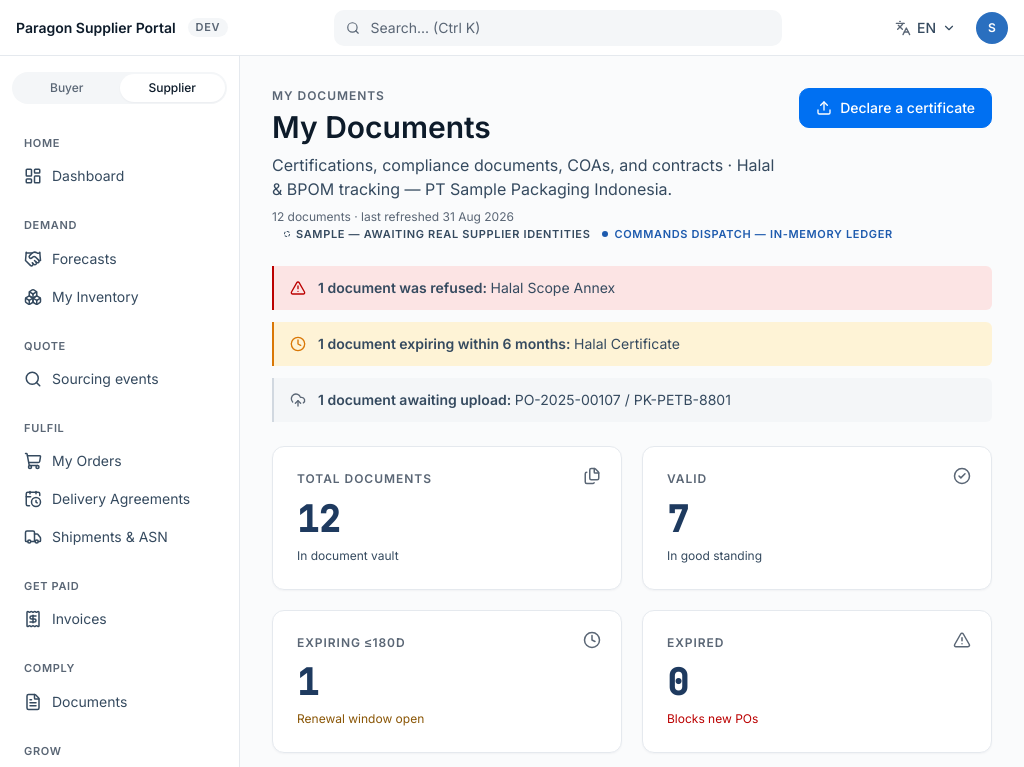
Test: §82 · the supplier declares — and the surface says what it is › a supplier lane without the verb sees WHOSE act it is, not an absent button
Click the button "Declare a certificate". click: (896, 108)
box: x1=799 y1=88 x2=992 y2=128
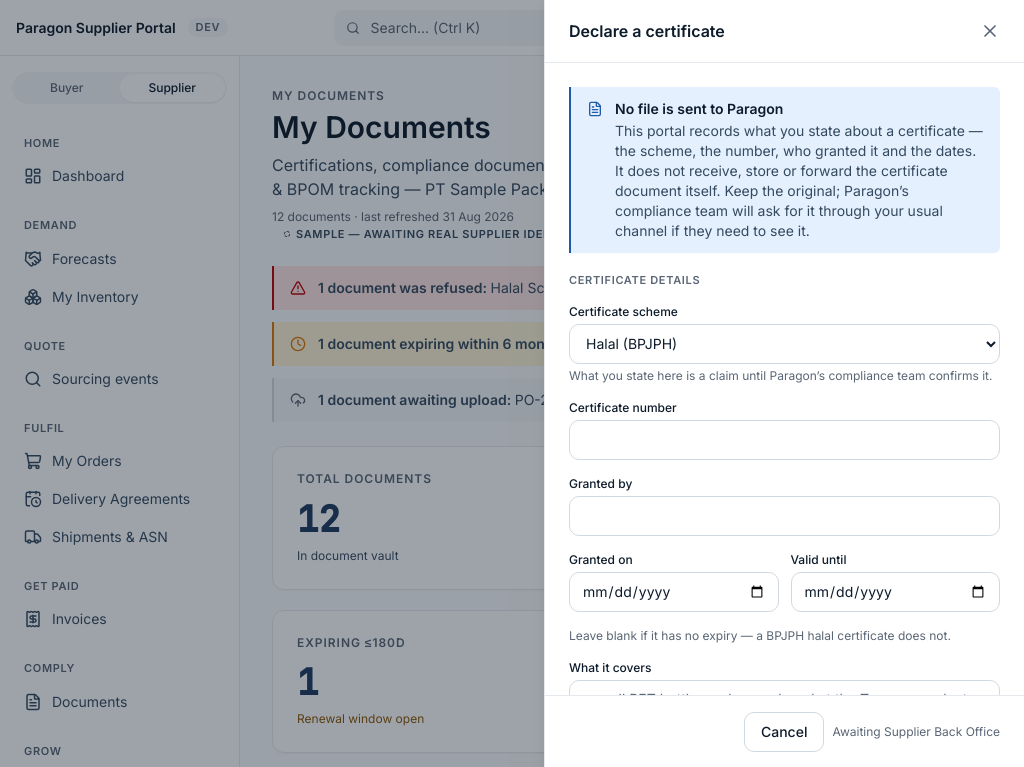
Now the text "Awaiting Supplier Back Office" is shown, box x1=832 y1=724 x2=1000 y2=740
